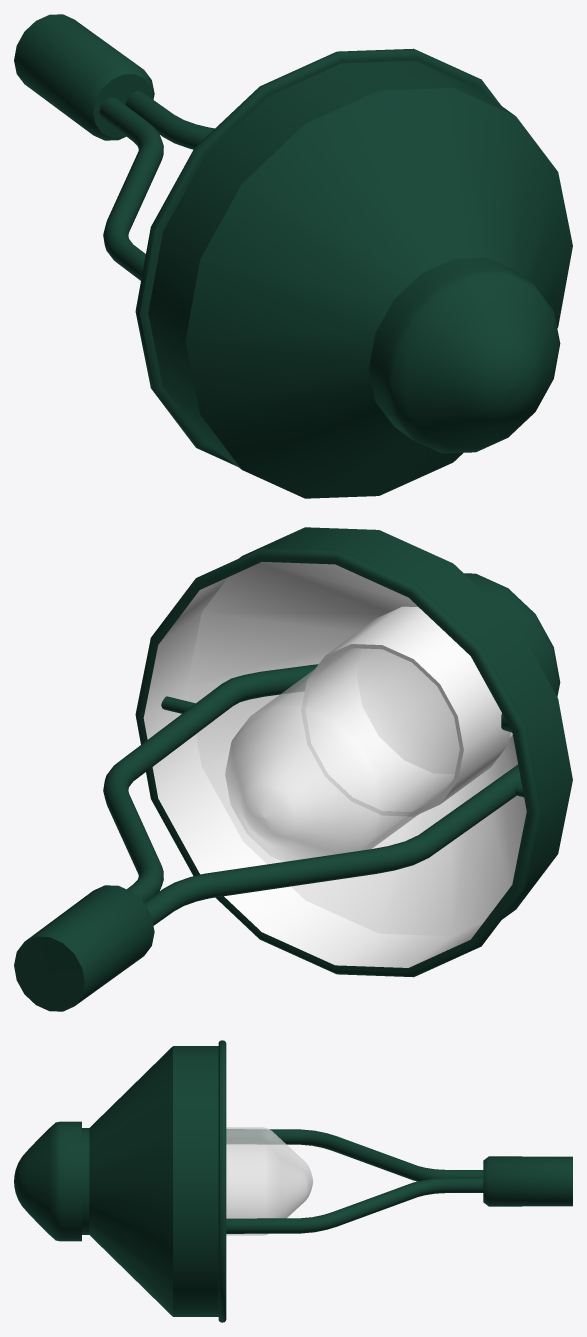
The model's file is Albstadt.obj.
3 renders of one model, top to bottom at view 1: azimuth 30°, elevation 25°; view 2: azimuth 150°, elevation 25°; view 3: azimuth 270°, elevation 25°, orthographic. The views are drawn at different scales.
Parts seen in each view (by area): view 1: BezierCurve.001; view 2: BezierCurve.001; view 3: BezierCurve.001.
Boxes of the visible parts, box(x1,y1,x2,y2) form: BezierCurve.001: box(14, 14, 572, 498); BezierCurve.001: box(14, 527, 572, 1011); BezierCurve.001: box(14, 1040, 572, 1322).
Bounding box in the file's own units: 0.5162 × 0.5162 × 1.02.
3 materials, 2 textured.
